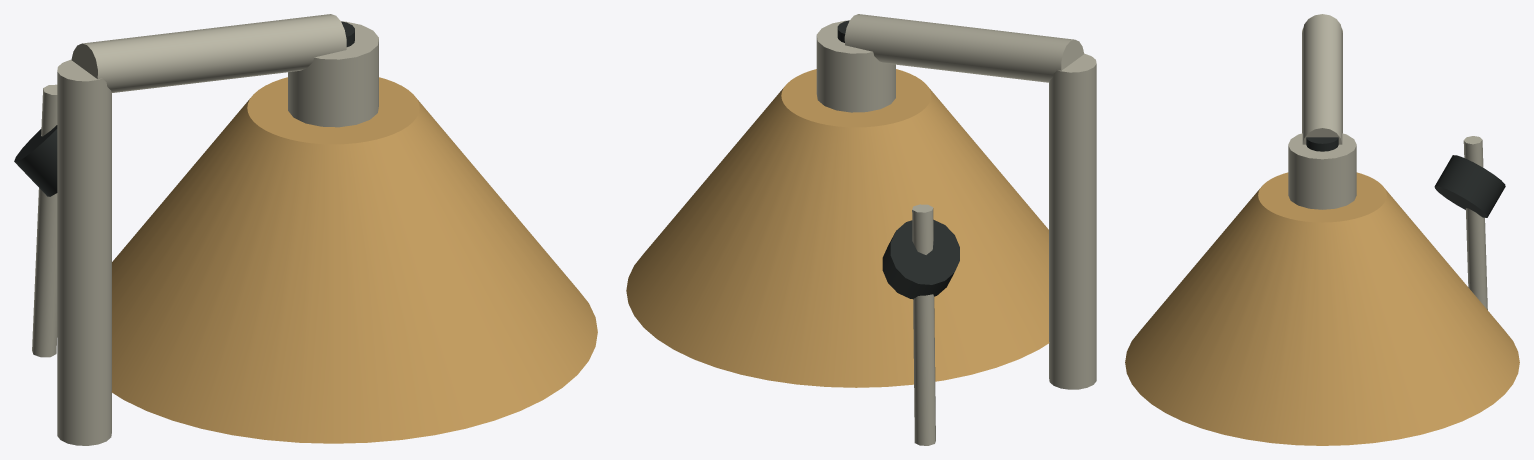
The model's file is Foundry.glb.
3 views of the same model, side by side, from view 1: azimuth 30°, elevation 25°; view 2: azimuth 150°, elevation 25°; view 3: azimuth 270°, elevation 25° (orthographic). The views are drawn at different scales.
Parts seen in each view (by area): view 1: Bell skirt, Suspension yoke, Hanger, Crown, Striker spring, Clapper; view 2: Bell skirt, Suspension yoke, Hanger, Crown, Striker spring, Clapper; view 3: Bell skirt, Hanger, Crown, Clapper, Striker spring, Suspension pin.
Part boxes in pixels (x1,y1,x2,y2): Bell skirt: (111, 77, 597, 443); Suspension yoke: (57, 59, 111, 445); Hanger: (71, 14, 346, 92); Crown: (288, 21, 378, 127); Striker spring: (32, 84, 57, 357); Clapper: (14, 125, 57, 196); Bell skirt: (626, 69, 1049, 387); Suspension yoke: (1049, 53, 1096, 389); Hanger: (844, 14, 1084, 82); Crown: (816, 20, 895, 112); Striker spring: (912, 204, 935, 445); Clapper: (882, 219, 959, 298); Bell skirt: (1125, 172, 1519, 445); Hanger: (1302, 14, 1342, 144); Crown: (1288, 133, 1356, 209); Clapper: (1434, 155, 1505, 217); Striker spring: (1463, 136, 1487, 309); Suspension pin: (1306, 137, 1338, 151).
Size of the model in its own units: 0.504 by 0.3833 by 0.46.
